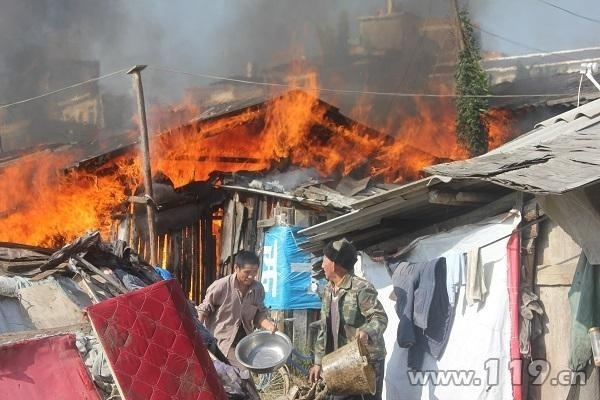fire: (8, 45, 483, 268)
